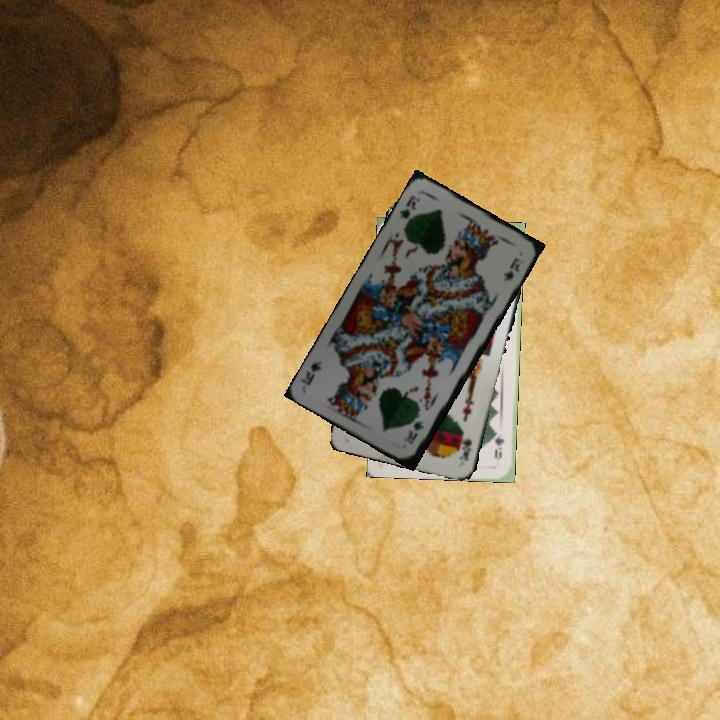G9: (491, 428, 507, 462)
GK: (395, 191, 423, 222), (402, 416, 427, 447)
SK: (454, 427, 475, 463)
